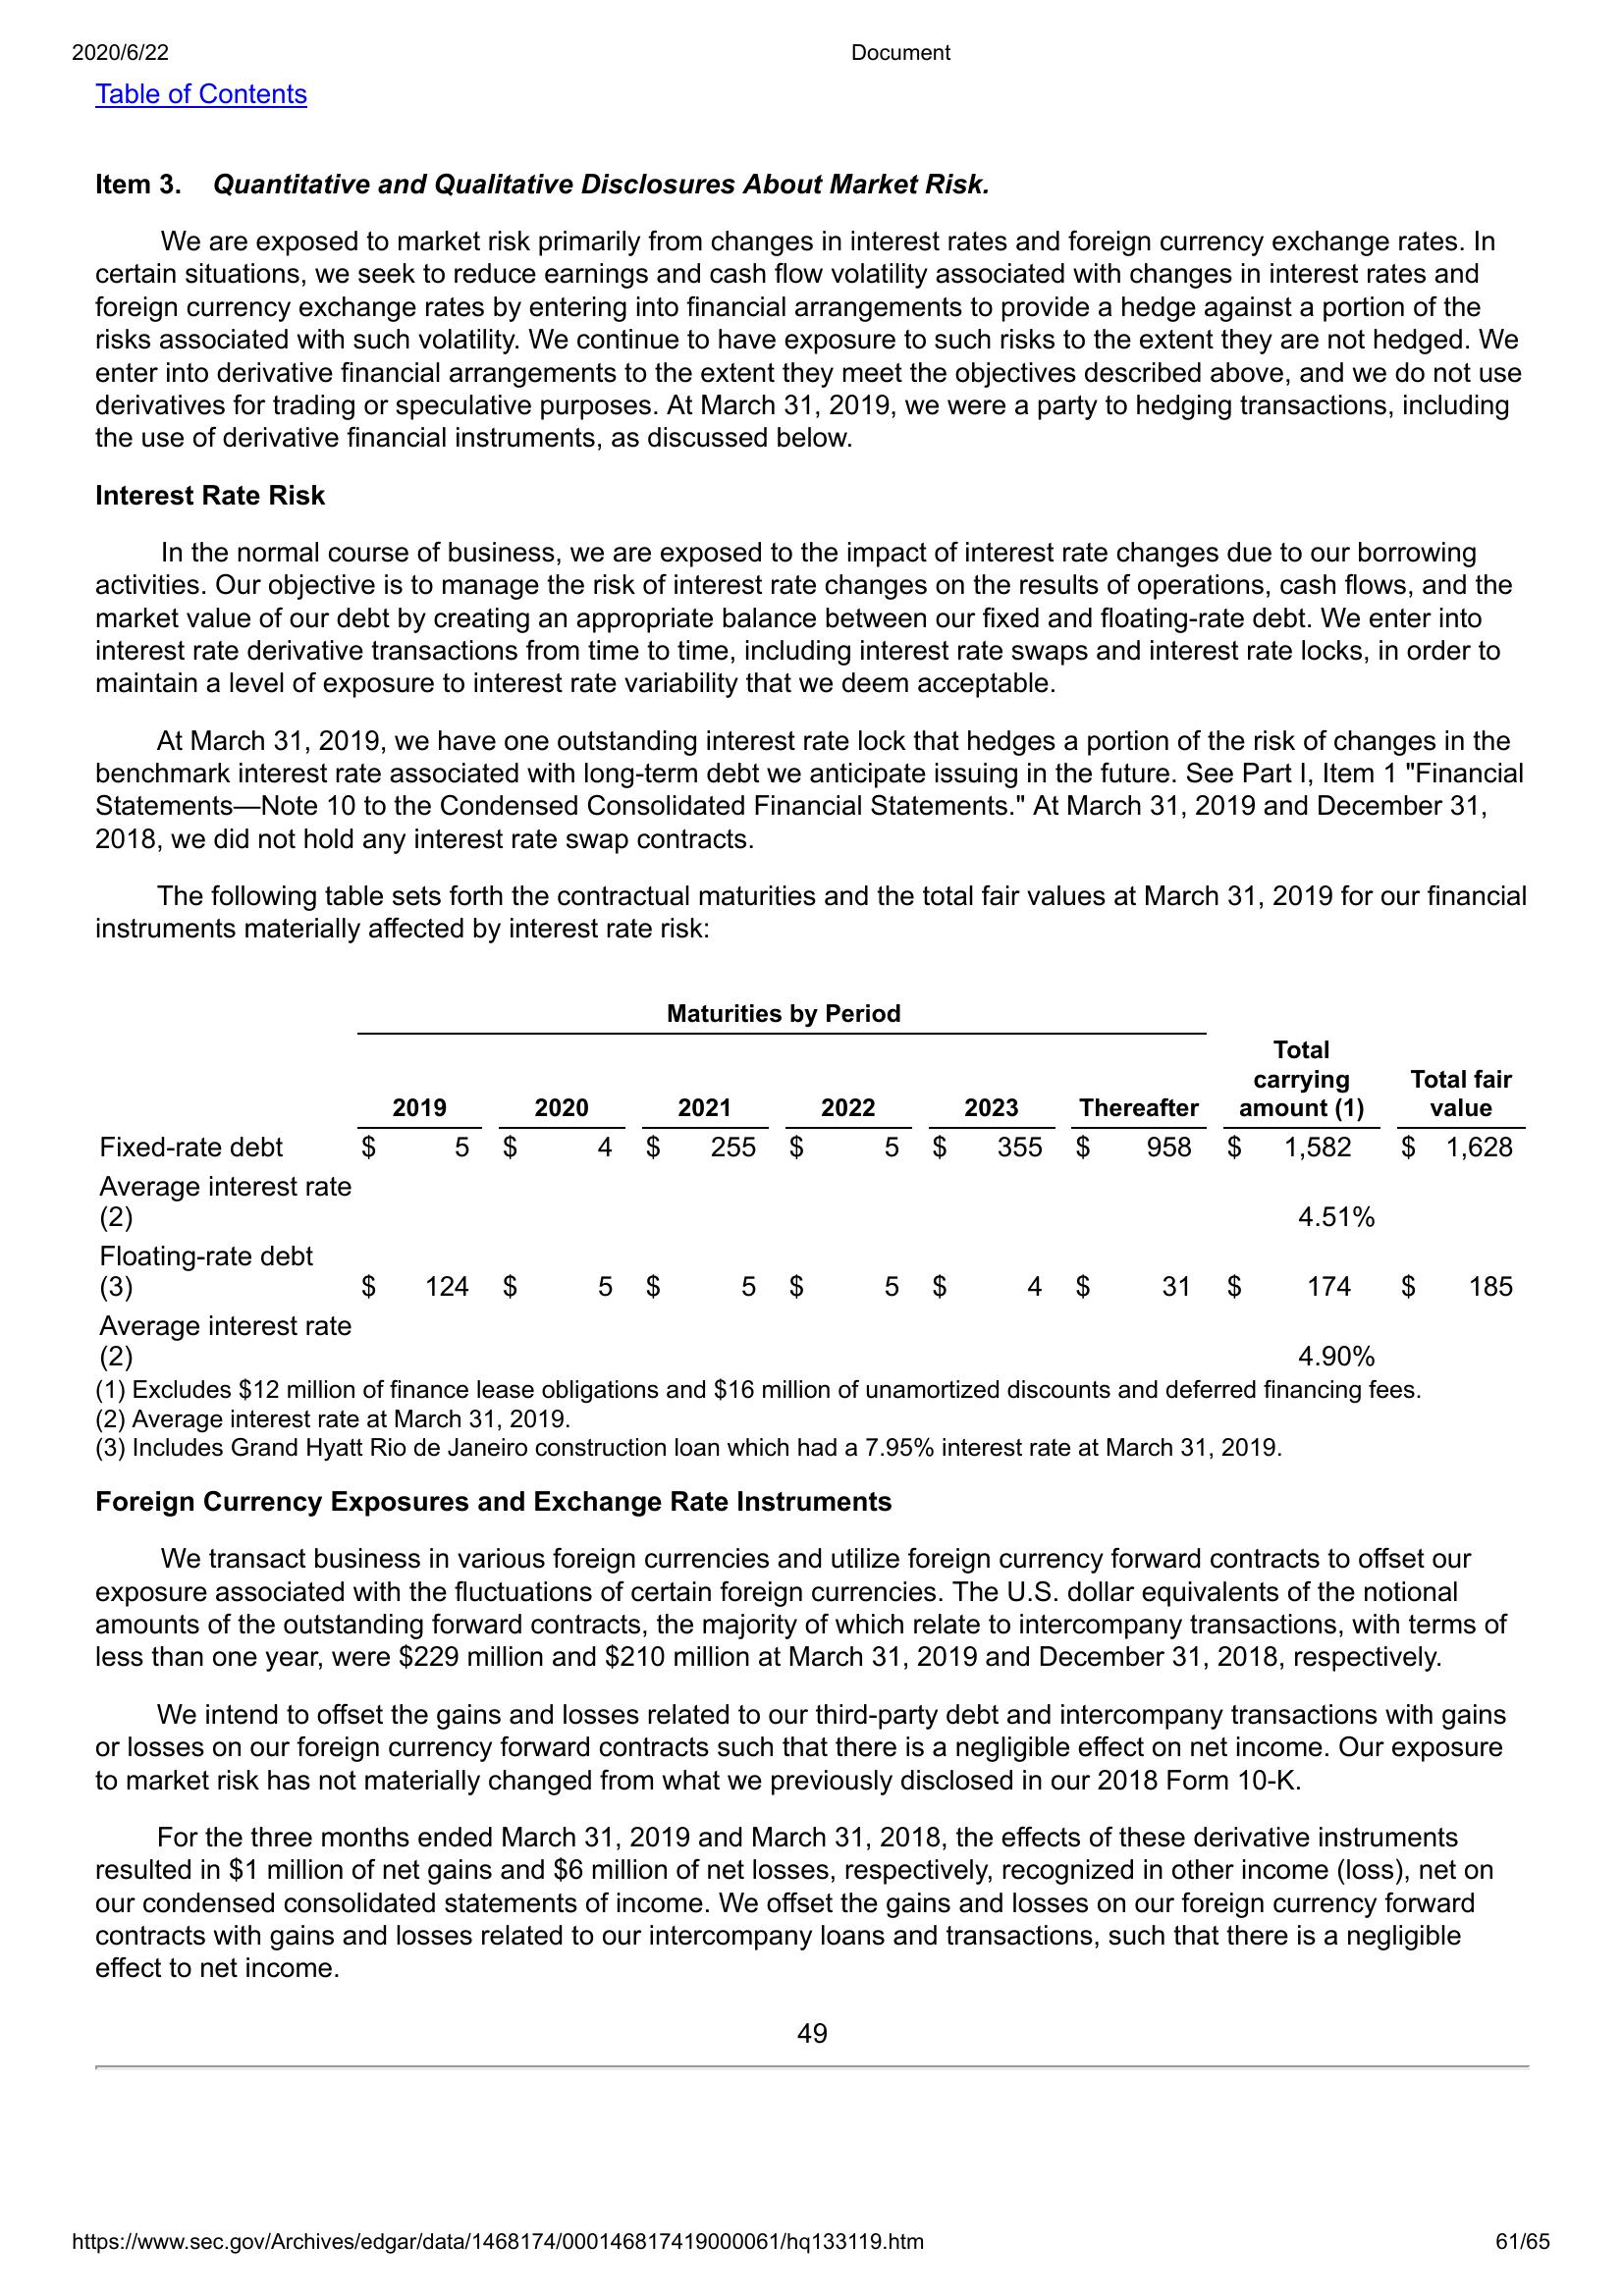table: (98, 990, 1530, 1341)
